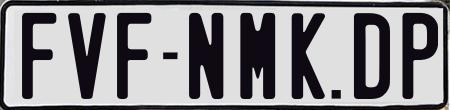D: (351, 12, 391, 99)
F: (21, 11, 57, 103), (117, 13, 151, 99)
K: (291, 13, 329, 99)
M: (237, 13, 274, 101)
N: (187, 10, 222, 99)
P: (401, 10, 434, 99)
V: (66, 11, 105, 99)
